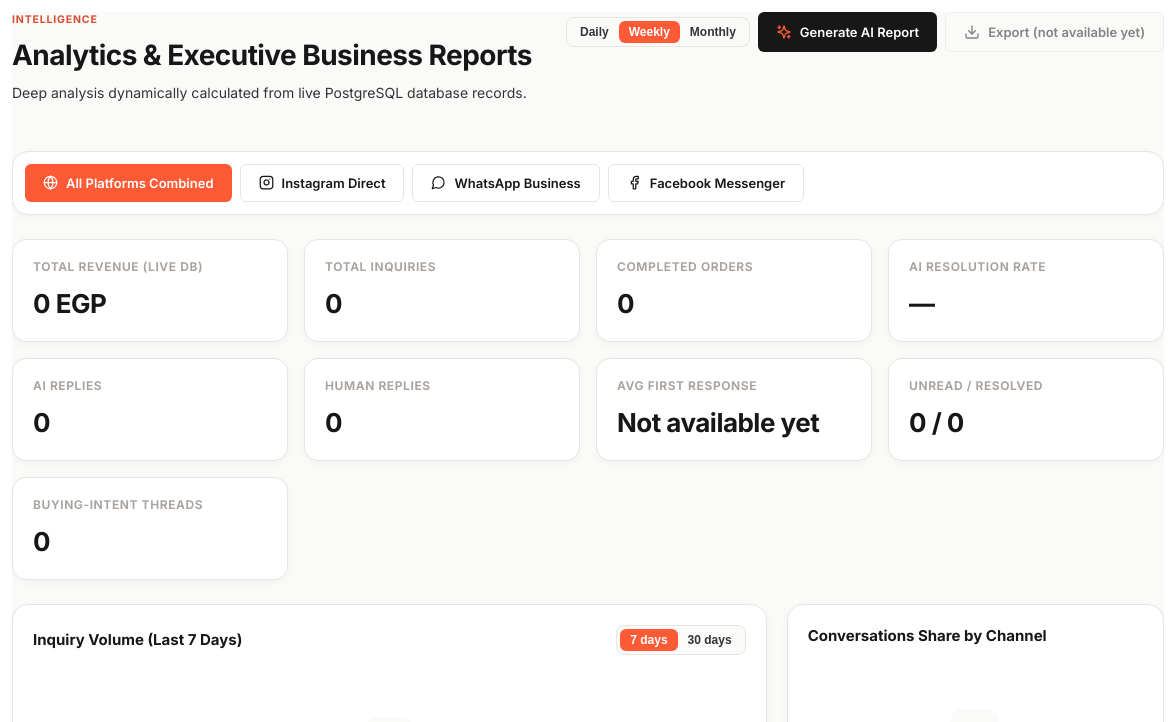
Test: Analytics page › shows real reply/response metrics, a chart range, and an honest export state
Expected: the text "AI Replies" is shown, [33,378,102,393]
Expected: the text "Human Replies" is shown, [325,378,431,393]
Click the button "30 days": (710, 640) [678,629,742,651]
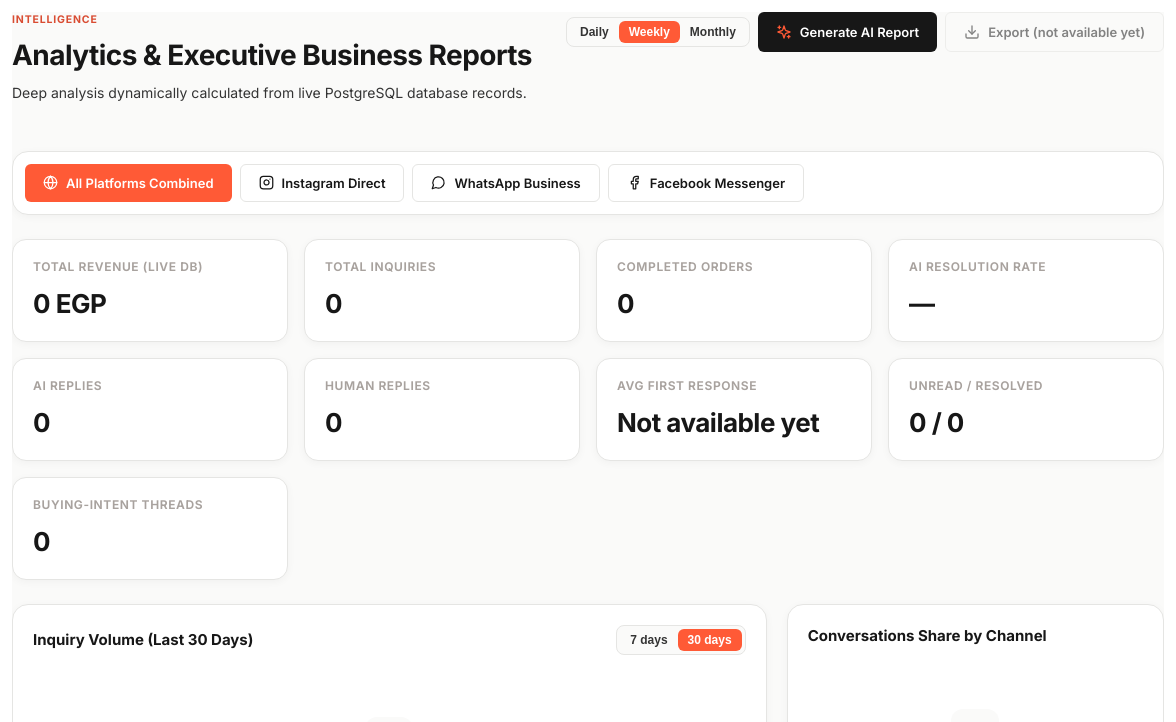
Now the heading "Inquiry Volume (Last 30 Days)" is shown, box [33,628,253,651]
